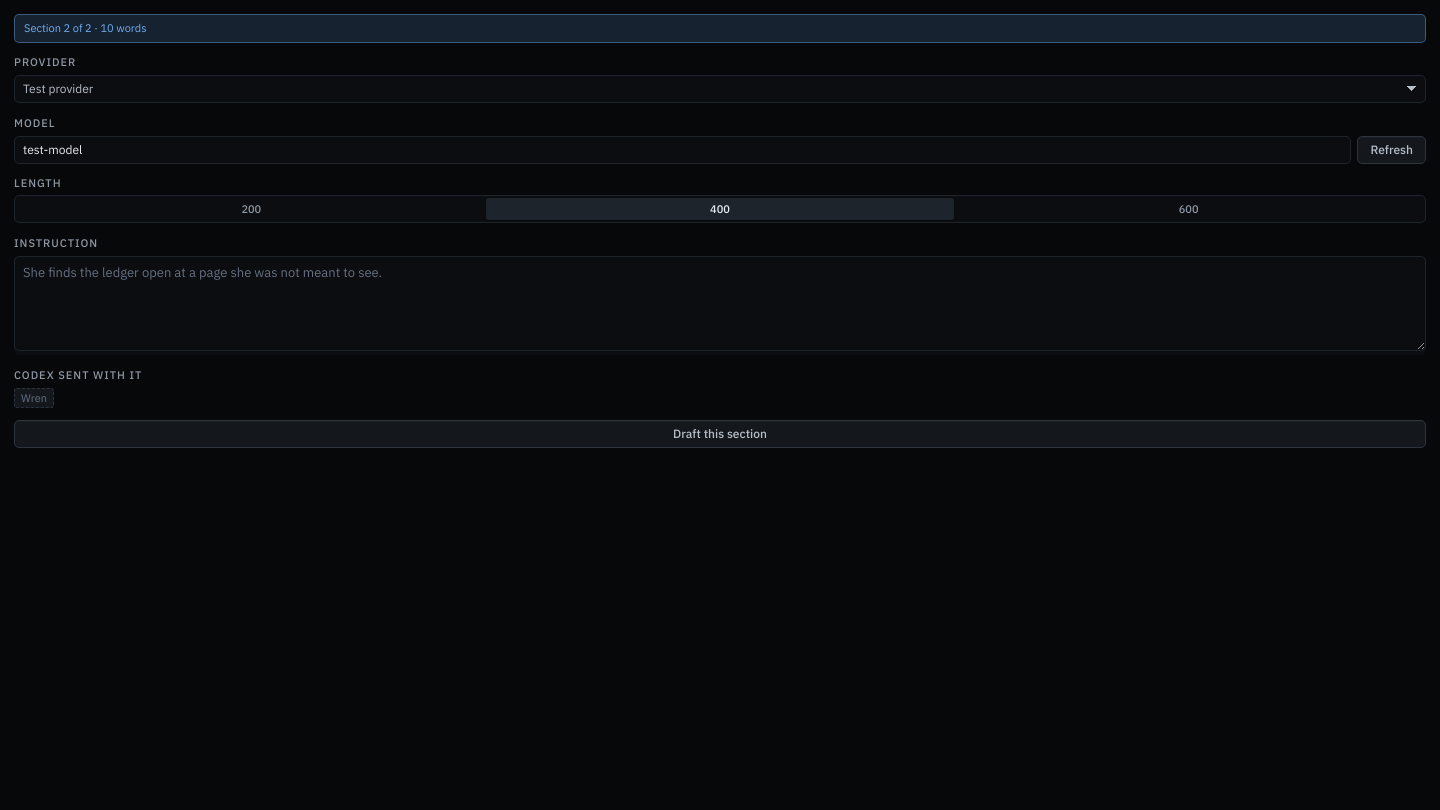
Test: WritePanel › disables replacing when the section cannot be overwritten, and says why
Expected: the text "Section 2 of 2 · 10 words" is shown, [14,14,1426,43]
Click the button "Draft this section" at [720, 434], box [14,420,1426,448]
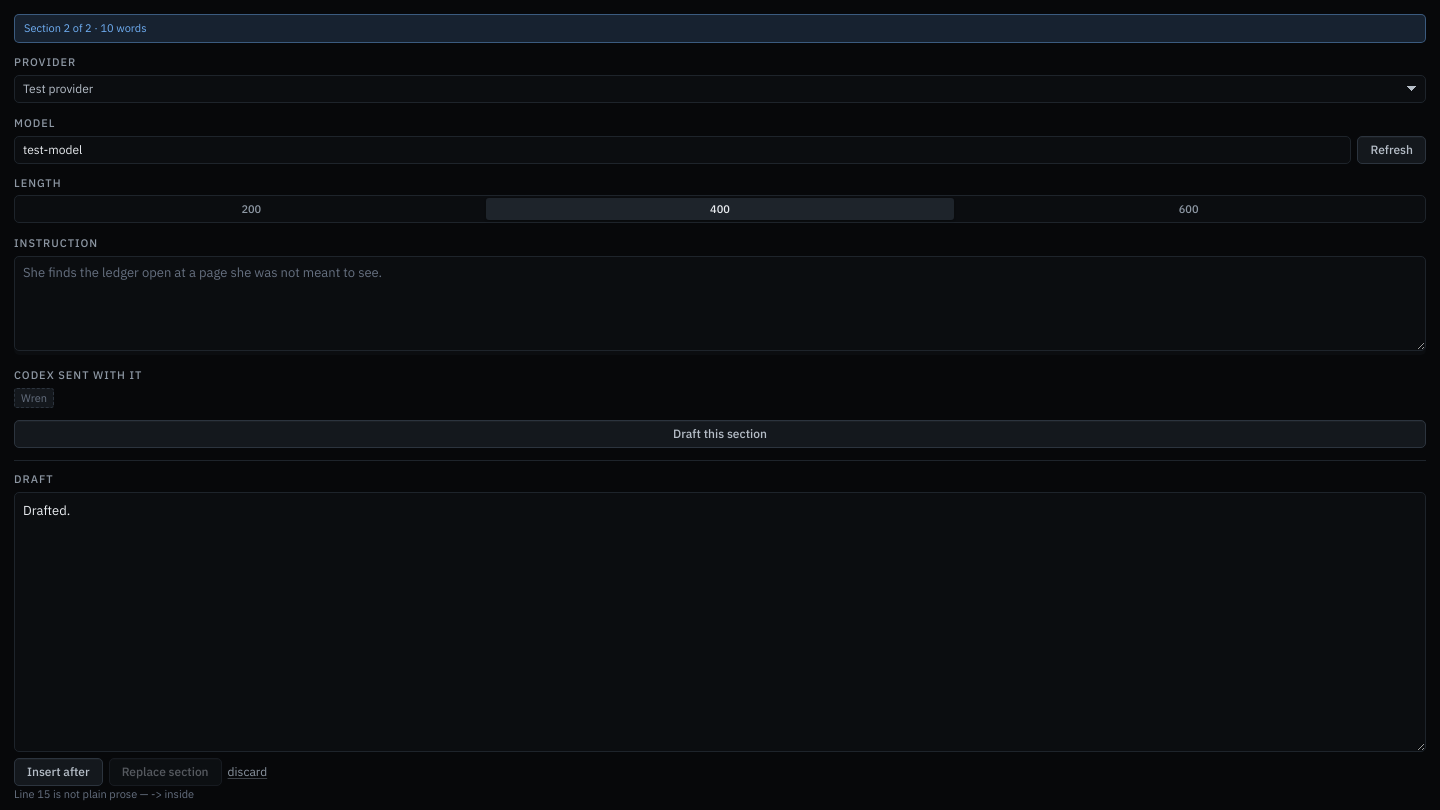
Now the text box showing "Drafted." is shown, box [14,492,1426,752]
Now the button "Replace section" is disabled, box [109,758,222,786]
Now the button "Insert after" is enabled, box [14,758,103,786]
